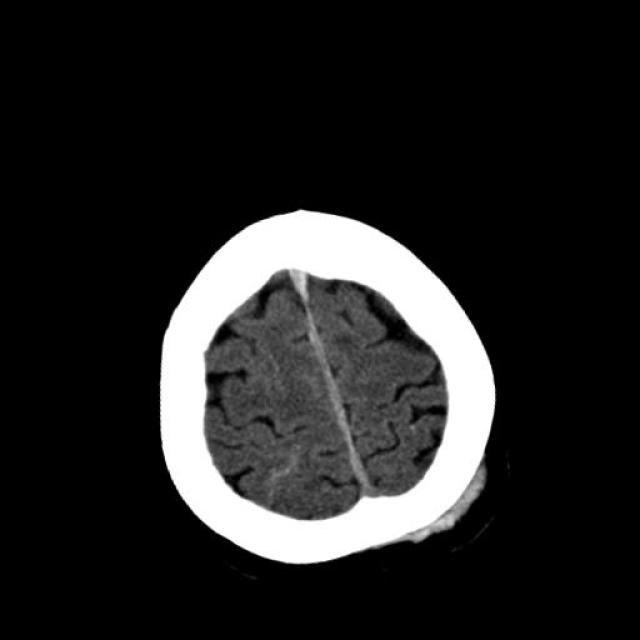Subarachnoid: (248, 440, 312, 506)
Subdural: (260, 247, 400, 513)
